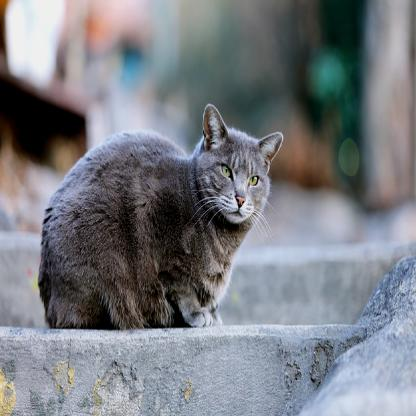cat: (34, 102, 284, 328)
